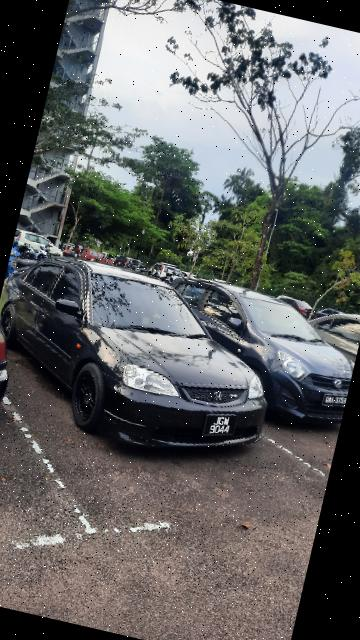License_Plate: (199, 406, 248, 445), (322, 392, 348, 412)
car: (1, 244, 299, 483), (142, 262, 360, 440)
